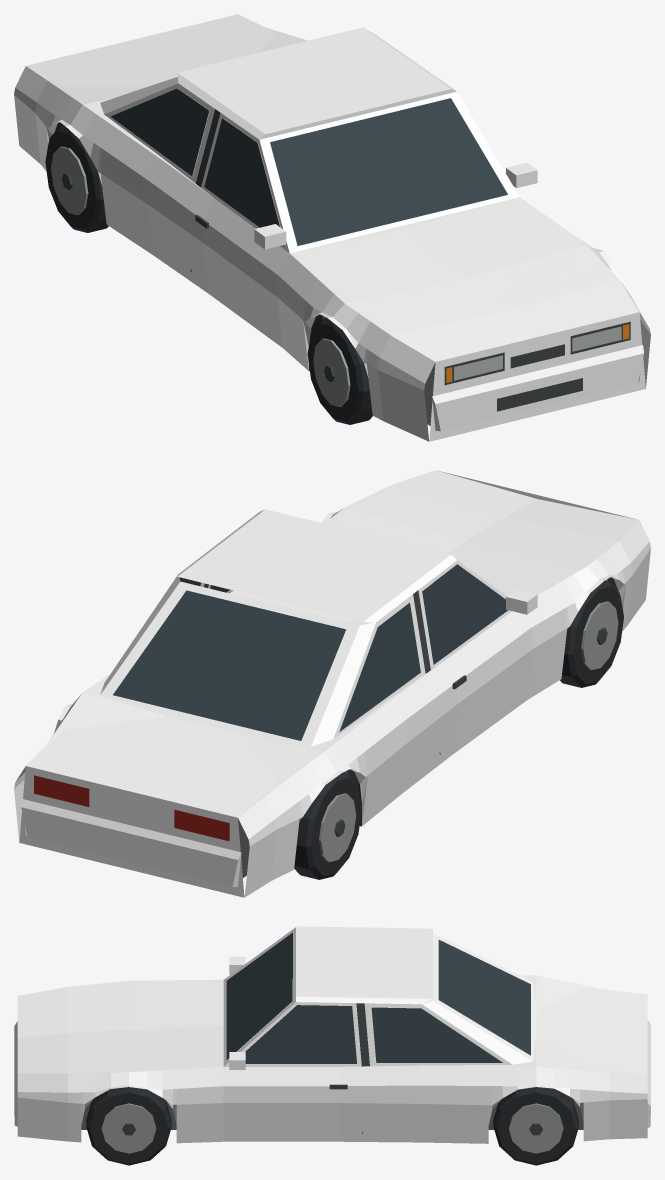
Rendered from kanaya_asakaze_97.glb.
The picture shows the model from 3 angles, top to bottom: view 1: azimuth 30°, elevation 25°; view 2: azimuth 150°, elevation 25°; view 3: azimuth 270°, elevation 25°; orthographic projection. The views are drawn at different scales.
Visible parts, largest first — view 1: kanaya_asakaze_97; view 2: kanaya_asakaze_97; view 3: kanaya_asakaze_97.
Boxes of the visible parts, box(x1,y1,x2,y2) form: kanaya_asakaze_97: box(14, 14, 650, 441); kanaya_asakaze_97: box(14, 470, 650, 897); kanaya_asakaze_97: box(14, 926, 650, 1165).
Size of the model in its own units: 1.81 by 1.25 by 4.66.
Materials: 8 (1 with a texture image).
